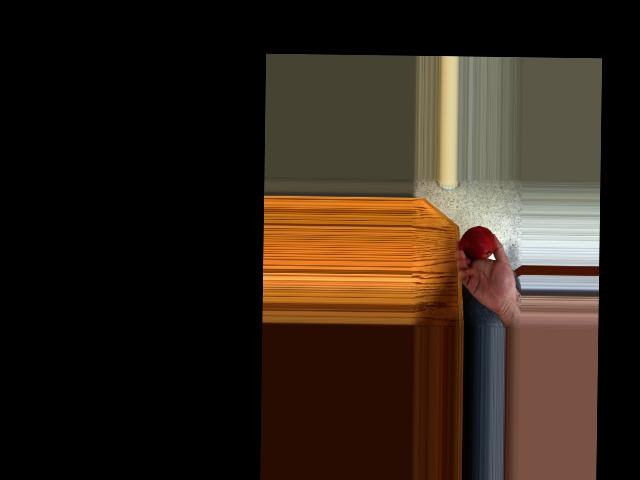apple: (460, 223, 495, 260)
